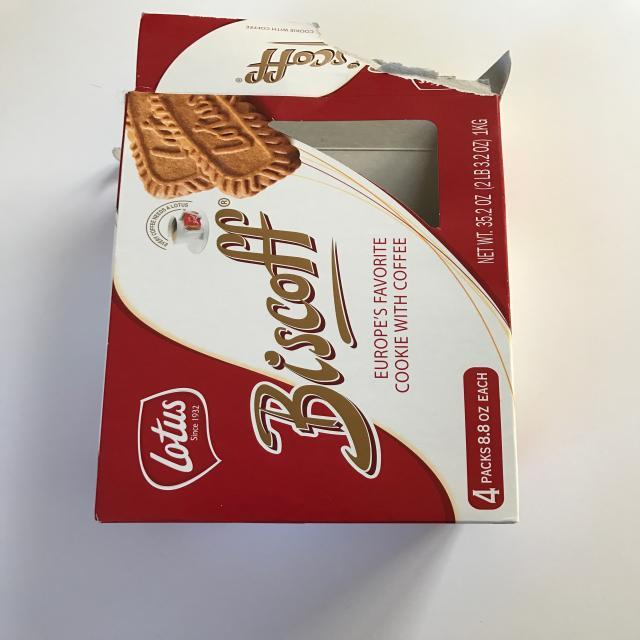paper: (86, 9, 519, 540)
